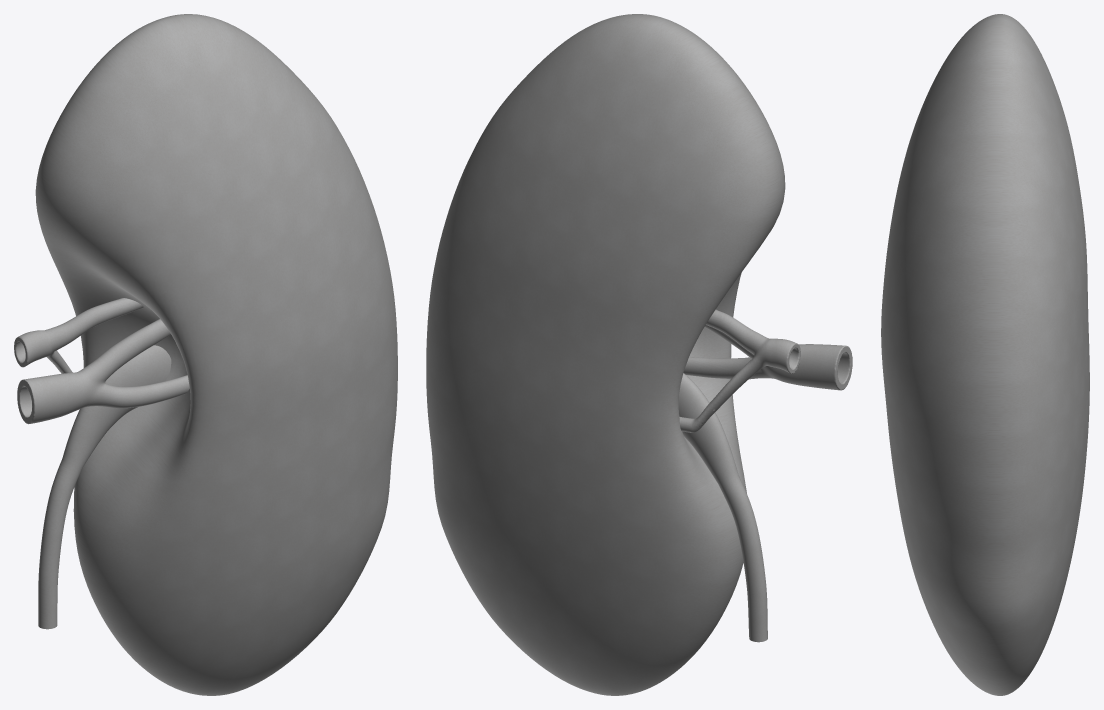
Rendered from previous.glb.
3 views of the same model, side by side, from view 1: azimuth 30°, elevation 25°; view 2: azimuth 150°, elevation 25°; view 3: azimuth 270°, elevation 25° (orthographic). The views are drawn at different scales.
Parts seen in each view (by area): view 1: KIDNEY_L.surface, URETER_L, VEIN_L, ARTERY_L; view 2: KIDNEY_L.surface, URETER_L, VEIN_L, ARTERY_L; view 3: KIDNEY_L.surface.
Part boxes in pixels (x1,y1,x2,y2): KIDNEY_L.surface: (35,14,397,695); URETER_L: (38,345,171,629); VEIN_L: (17,319,189,424); ARTERY_L: (14,298,143,373); KIDNEY_L.surface: (426,14,785,695); URETER_L: (678,373,767,642); VEIN_L: (683,309,852,390); ARTERY_L: (679,310,800,432); KIDNEY_L.surface: (881,14,1089,695).
Bounding box in the file's own units: 0.0675 × 0.1144 × 0.0338.
Materials: 1 (1 with a texture image).
